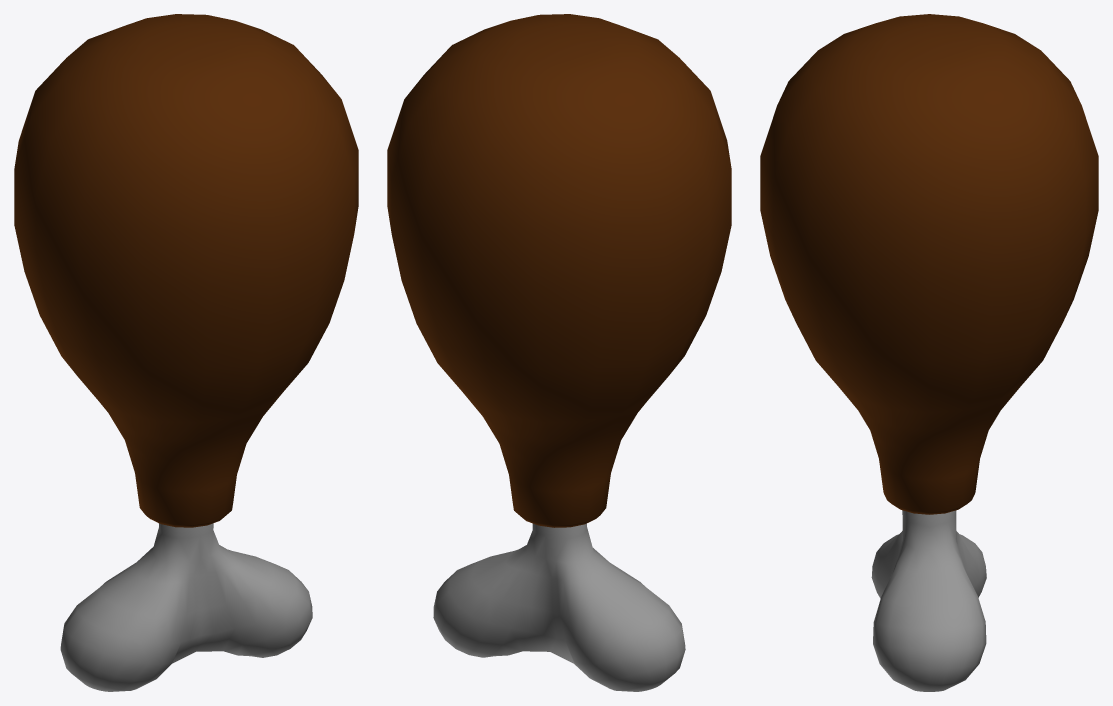
The model's file is Chicken.FBX.
The picture shows the model from 3 angles, left to right: view 1: azimuth 30°, elevation 25°; view 2: azimuth 150°, elevation 25°; view 3: azimuth 270°, elevation 25°; orthographic projection. The views are drawn at different scales.
Parts seen in each view (by area): view 1: Chicken; view 2: Chicken; view 3: Chicken.
Boxes of the visible parts, <box> form: Chicken: <box>14,14,358,691</box>; Chicken: <box>387,14,731,691</box>; Chicken: <box>760,14,1098,691</box>.
Bounding box in the file's own units: 580 × 580 × 1159.
